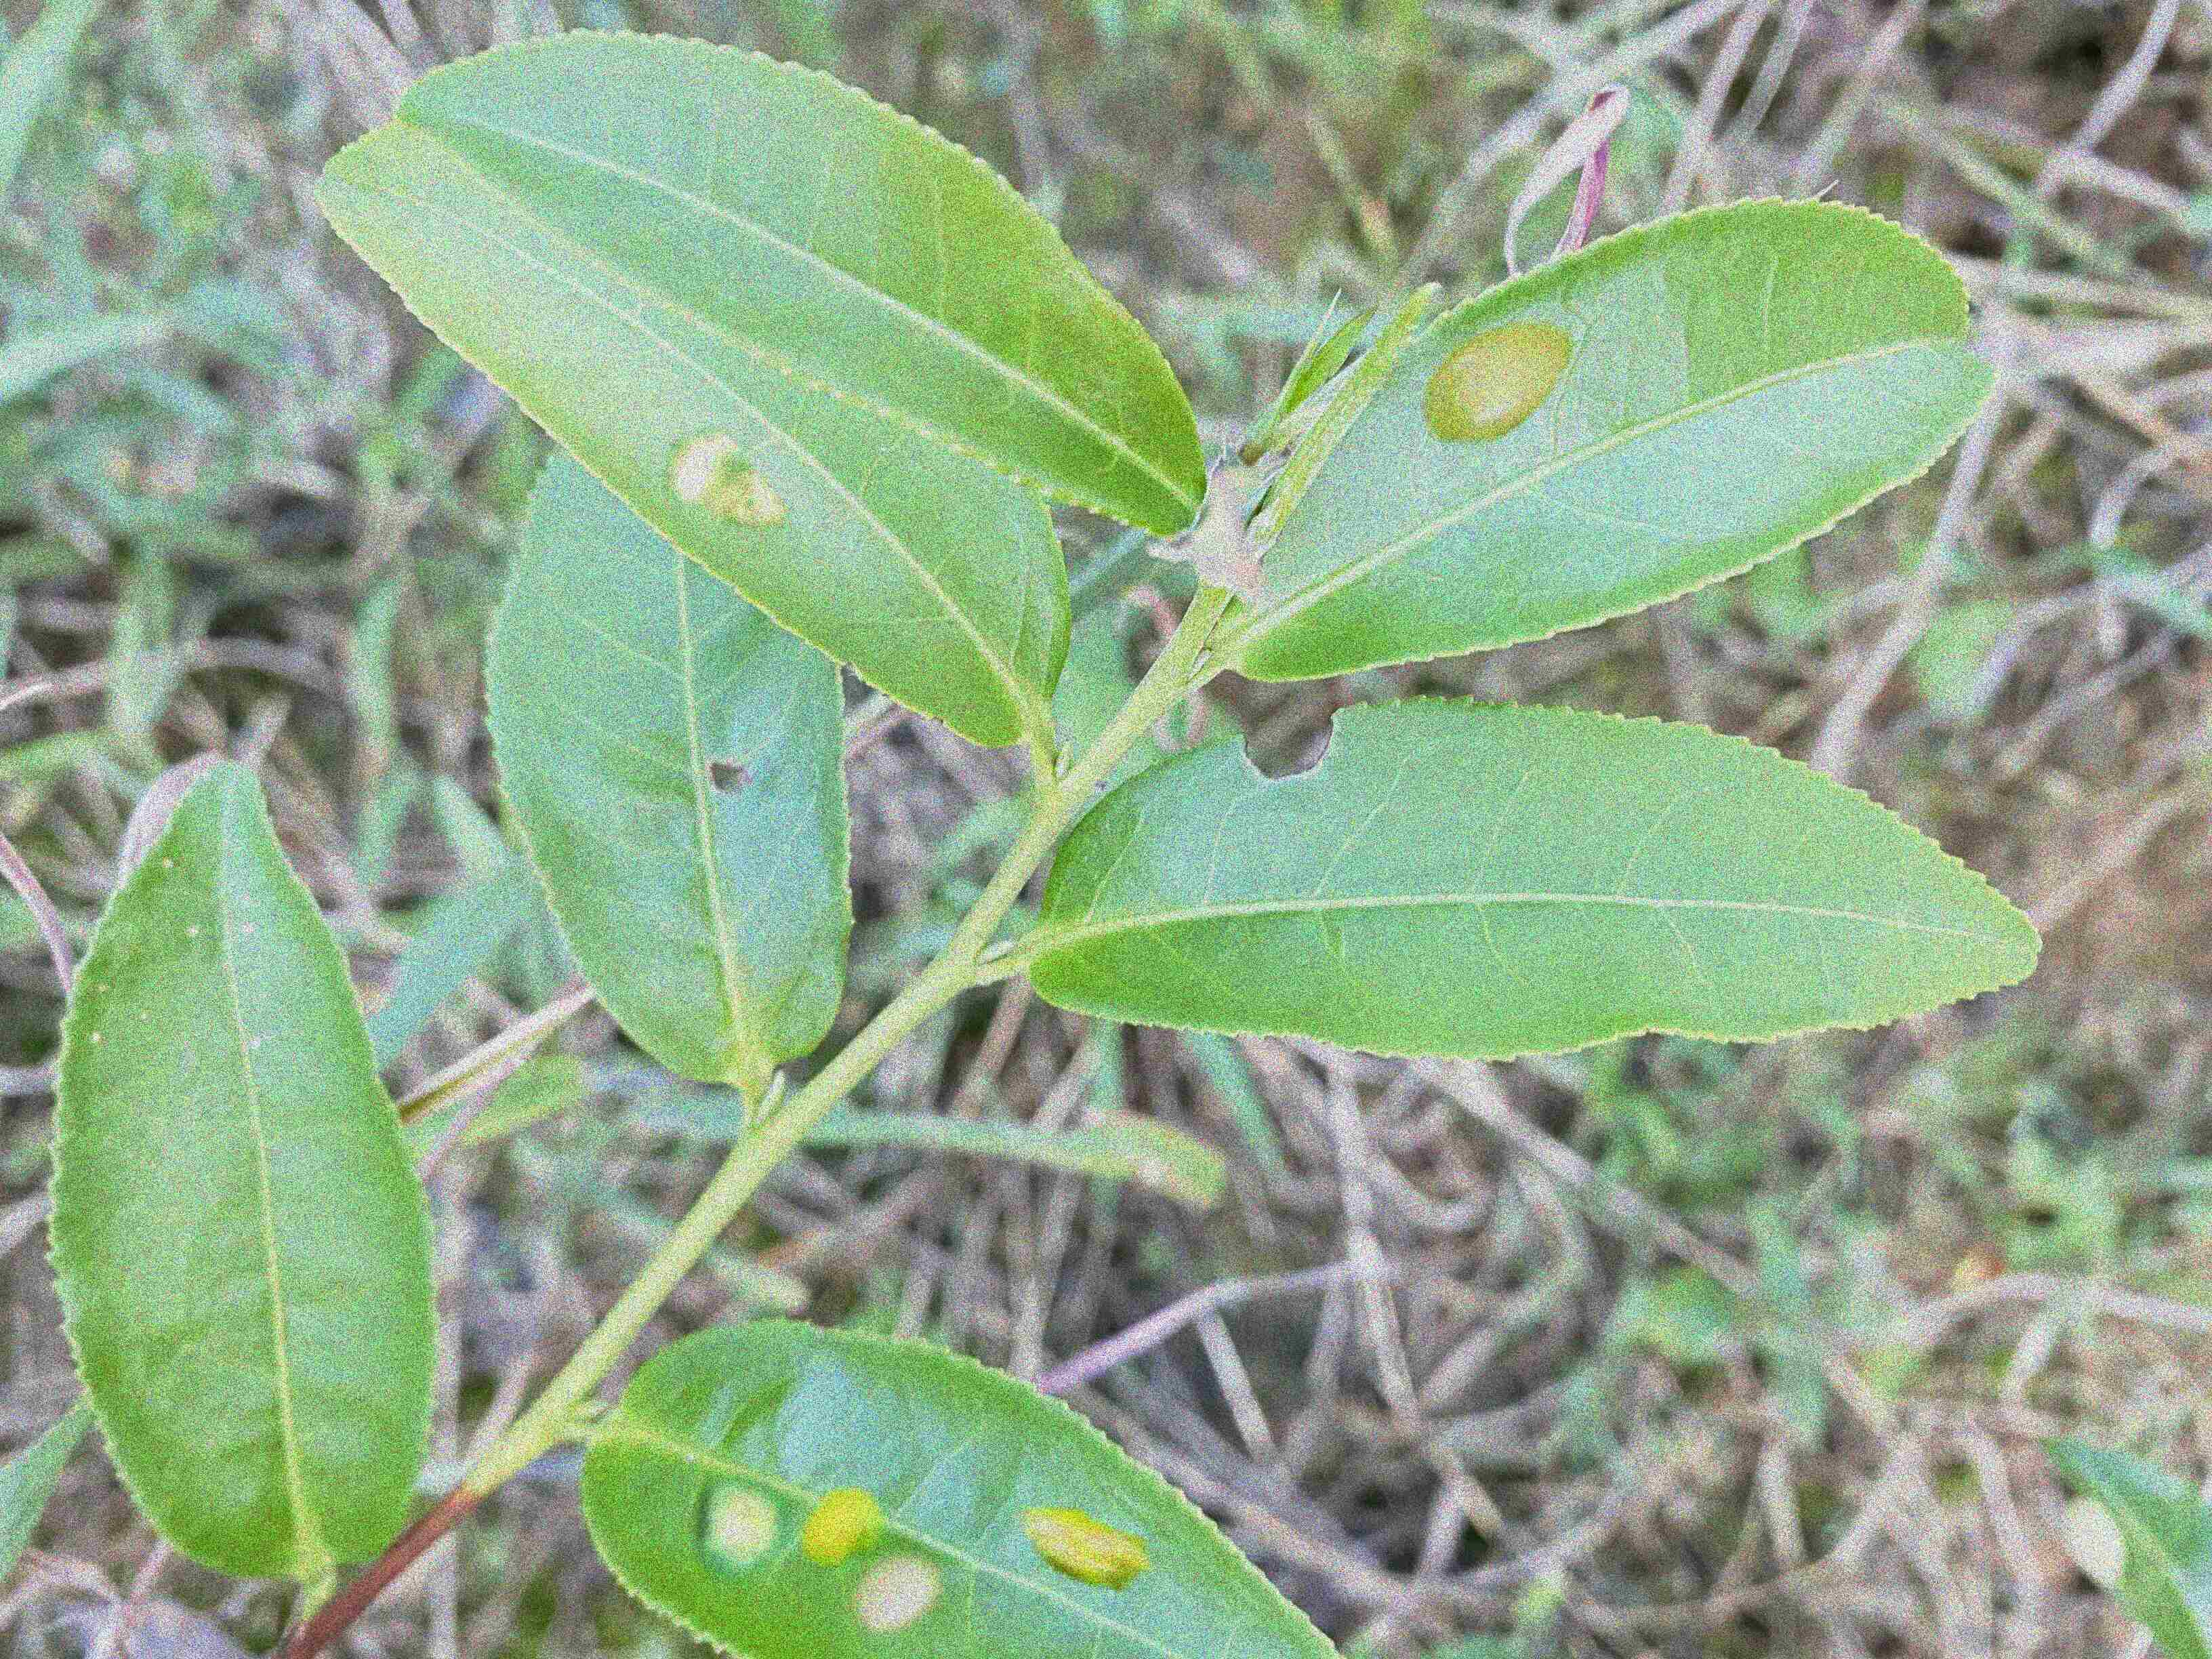chabing_high: (578, 1317, 1348, 1656)
chabing_low: (310, 113, 1071, 748), (1221, 197, 1998, 681)
chihuo_low: (1024, 692, 2045, 1065), (479, 446, 853, 1094)
healthy: (394, 28, 1209, 537)
